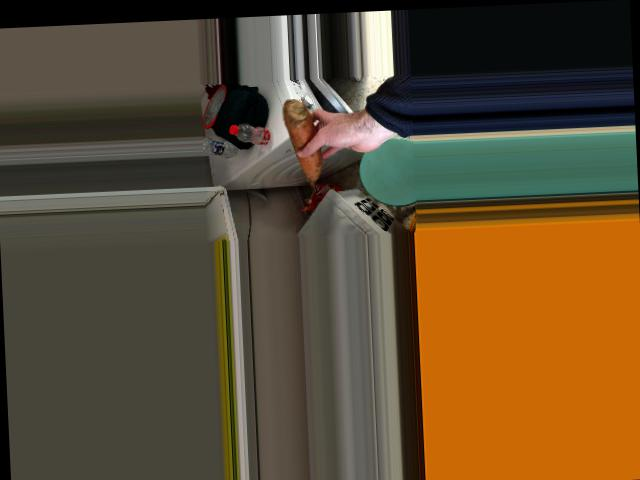sweet_potato: (288, 98, 318, 190)
